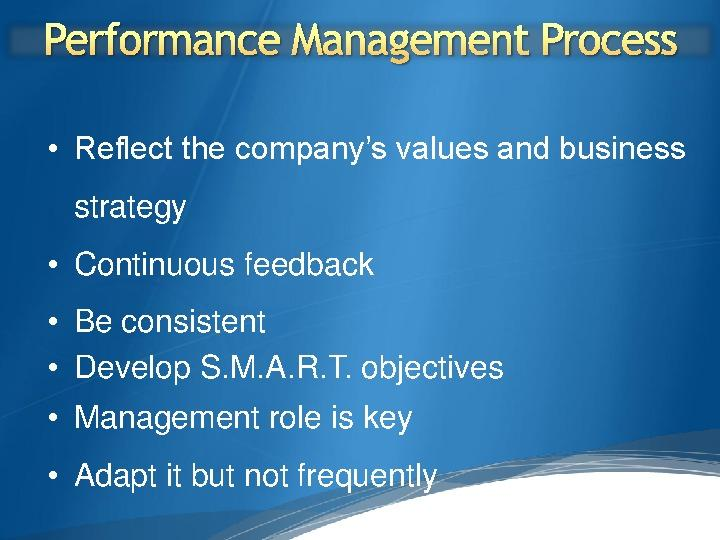paragraph: (20, 117, 705, 513)
title: (29, 7, 687, 72)
